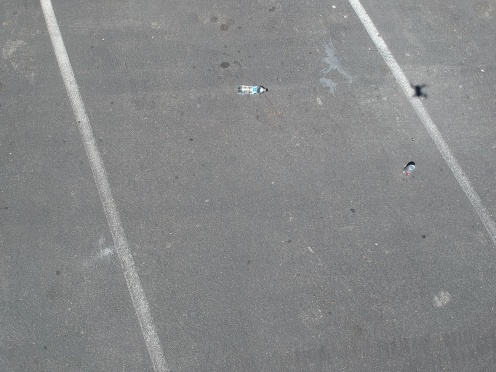bottle: (230, 84, 270, 96)
can: (396, 158, 418, 180)
